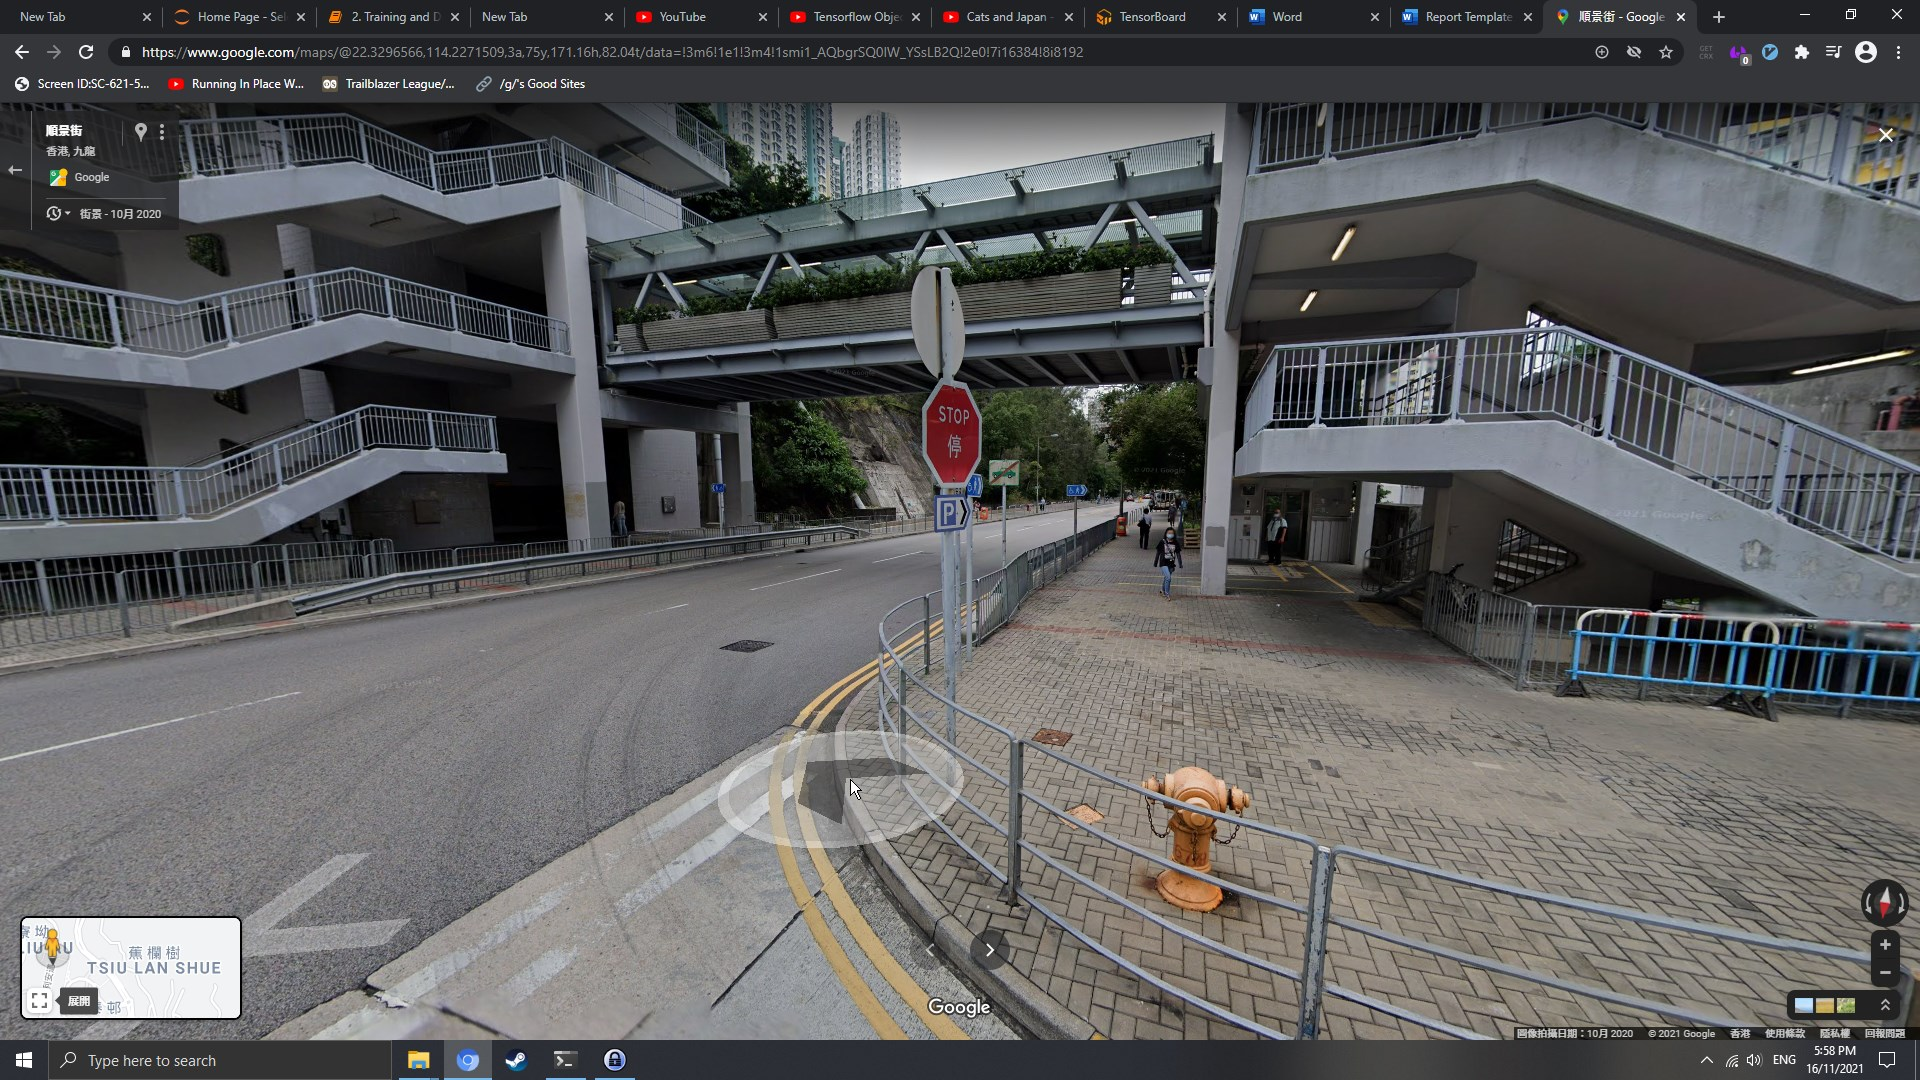Stop: (922, 378, 982, 488)
